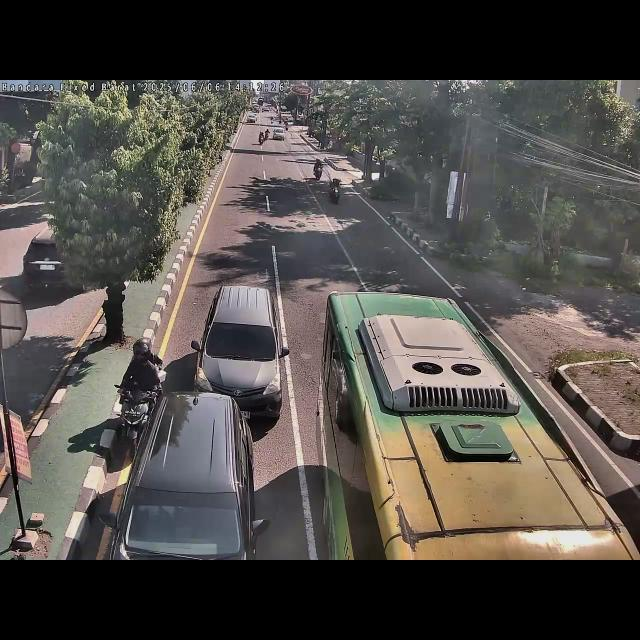Bis: (316, 290, 640, 560)
Mobil: (114, 390, 258, 560), (190, 283, 286, 422)
Motor: (117, 336, 169, 472)
